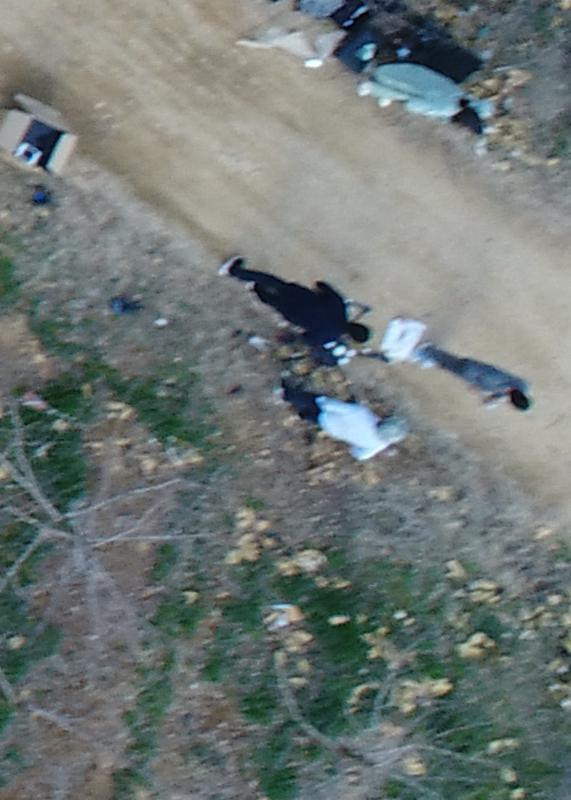apple: (10, 368, 221, 657), (234, 591, 512, 790), (10, 623, 146, 790)
